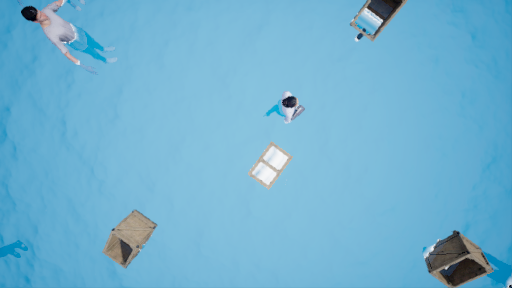person: (20, 2, 121, 79), (267, 92, 302, 124)
